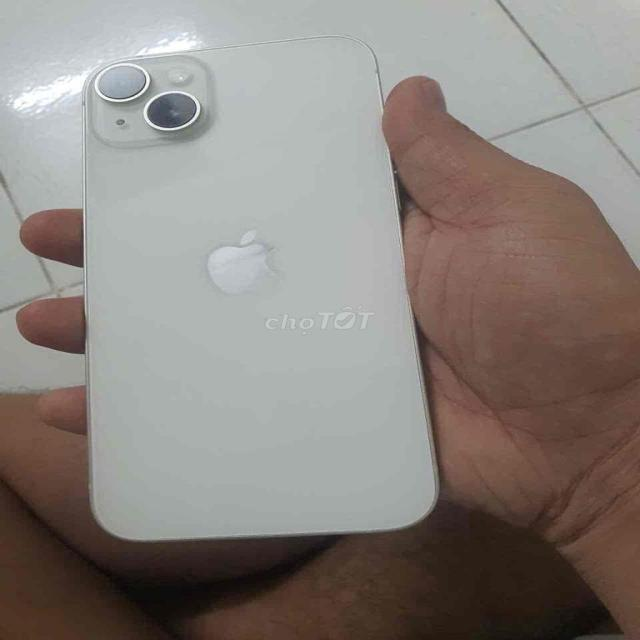gen_14: (66, 37, 446, 546)
